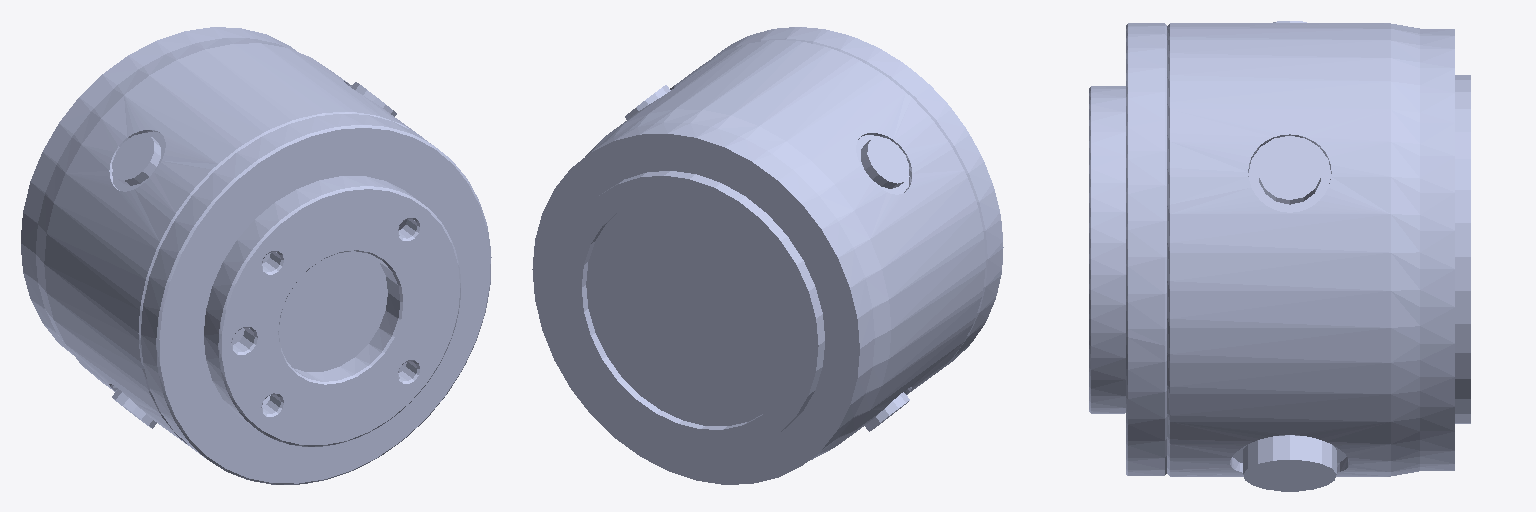
URDF robot description (rs_m90e7_description):
<?xml version="1.0" encoding="utf-8"?>
<robot
  name="rs_m90e7_description">
  <link
    name="base_link">
    <inertial>
      <origin
        xyz="-0.10083 0.44571 0.10064"
        rpy="0 0 0" />
      <mass
        value="14.348" />
      <inertia
        ixx="1.1958"
        ixy="0.065249"
        ixz="-0.0022916"
        iyy="0.54334"
        iyz="-0.34884"
        izz="0.83638" />
    </inertial>
    <visual>
      <origin
        xyz="0 0 0"
        rpy="0 0 0" />
      <geometry>
        <mesh
          filename="package://rs_m90e7_description/meshes/base_link.STL" />
      </geometry>
      <material
        name="">
        <color
          rgba="0.79216 0.81961 0.93333 1" />
      </material>
    </visual>
    <collision>
      <origin
        xyz="0 0 0"
        rpy="0 0 0" />
      <geometry>
        <mesh
          filename="package://rs_m90e7_description/meshes/base_link.STL" />
      </geometry>
    </collision>
  </link>
  <link
    name="link1">
    <inertial>
      <origin
        xyz="-0.100828740851782 0.344764306357991 0.100637842700082"
        rpy="0 0 0" />
      <mass
        value="14.3478185896065" />
      <inertia
        ixx="1.19580116428598"
        ixy="0.065248716032548"
        ixz="-0.00229155804674572"
        iyy="0.543340717434702"
        iyz="-0.348841942351221"
        izz="0.836377518308467" />
    </inertial>
    <visual>
      <origin
        xyz="0 0 0"
        rpy="0 0 0" />
      <geometry>
        <mesh
          filename="package://rs_m90e7_description/meshes/link1.STL" />
      </geometry>
      <material
        name="">
        <color
          rgba="0.792156862745098 0.819607843137255 0.933333333333333 1" />
      </material>
    </visual>
    <collision>
      <origin
        xyz="0 0 0"
        rpy="0 0 0" />
      <geometry>
        <mesh
          filename="package://rs_m90e7_description/meshes/link1.STL" />
      </geometry>
    </collision>
  </link>
  <joint
    name="j1"
    type="revolute">
    <origin
      xyz="0 0 0.10095"
      rpy="1.5708 0 0" />
    <parent
      link="base_link" />
    <child
      link="link1" />
    <axis
      xyz="0 1 0" />
    <limit
      lower="-6.2831853072"
      upper="6.2831853072"
      effort="0"
      velocity="4.7123889804" />
  </joint>
  <link
    name="link2">
    <inertial>
      <origin
        xyz="-0.241614292774701 0.0318787408517825 -0.100637842700082"
        rpy="0 0 0" />
      <mass
        value="14.3478185896065" />
      <inertia
        ixx="0.543340717434702"
        ixy="0.0652487160325479"
        ixz="-0.348841942351221"
        iyy="1.19580116428598"
        iyz="-0.00229155804674576"
        izz="0.836377518308467" />
    </inertial>
    <visual>
      <origin
        xyz="0 0 0"
        rpy="0 0 0" />
      <geometry>
        <mesh
          filename="package://rs_m90e7_description/meshes/link2.STL" />
      </geometry>
      <material
        name="">
        <color
          rgba="0.792156862745098 0.819607843137255 0.933333333333333 1" />
      </material>
    </visual>
    <collision>
      <origin
        xyz="0 0 0"
        rpy="0 0 0" />
      <geometry>
        <mesh
          filename="package://rs_m90e7_description/meshes/link2.STL" />
      </geometry>
    </collision>
  </link>
  <joint
    name="j2"
    type="revolute">
    <origin
      xyz="-0.06895 0.10315 0"
      rpy="-3.1416 0 -1.5708" />
    <parent
      link="link1" />
    <child
      link="link2" />
    <axis
      xyz="0 -1 0" />
    <limit
      lower="-6.2831853072"
      upper="6.2831853072"
      effort="0"
      velocity="4.7123889804" />
  </joint>
  <link
    name="link3">
    <inertial>
      <origin
        xyz="-0.100637842700082 -0.0318787408517825 0.188385707225299"
        rpy="0 0 0" />
      <mass
        value="14.3478185896065" />
      <inertia
        ixx="0.836377518308467"
        ixy="0.00229155804674574"
        ixz="-0.348841942351221"
        iyy="1.19580116428598"
        iyz="-0.0652487160325479"
        izz="0.543340717434702" />
    </inertial>
    <visual>
      <origin
        xyz="0 0 0"
        rpy="0 0 0" />
      <geometry>
        <mesh
          filename="package://rs_m90e7_description/meshes/link3.STL" />
      </geometry>
      <material
        name="">
        <color
          rgba="0.792156862745098 0.819607843137255 0.933333333333333 1" />
      </material>
    </visual>
    <collision>
      <origin
        xyz="0 0 0"
        rpy="0 0 0" />
      <geometry>
        <mesh
          filename="package://rs_m90e7_description/meshes/link3.STL" />
      </geometry>
    </collision>
  </link>
  <joint
    name="j3"
    type="revolute">
    <origin
      xyz="-0.43 0 0"
      rpy="3.1416 -1.5708 0" />
    <parent
      link="link2" />
    <child
      link="link3" />
    <axis
      xyz="0 1 0" />
    <limit
      lower="-4.0491638646"
      upper="1.2566370614"
      effort="0"
      velocity="7.1558499332" />
  </joint>
  <link
    name="link4">
    <inertial>
      <origin
        xyz="-0.188385707225299 0.017928791610254 -0.309362157299917"
        rpy="0 0 0" />
      <mass
        value="14.3478185896065" />
      <inertia
        ixx="0.543340717434702"
        ixy="-0.065248716032548"
        ixz="-0.348841942351221"
        iyy="1.19580116428598"
        iyz="0.00229155804674572"
        izz="0.836377518308467" />
    </inertial>
    <visual>
      <origin
        xyz="0 0 0"
        rpy="0 0 0" />
      <geometry>
        <mesh
          filename="package://rs_m90e7_description/meshes/link4.STL" />
      </geometry>
      <material
        name="">
        <color
          rgba="0.792156862745098 0.819607843137255 0.933333333333333 1" />
      </material>
    </visual>
    <collision>
      <origin
        xyz="0 0 0"
        rpy="0 0 0" />
      <geometry>
        <mesh
          filename="package://rs_m90e7_description/meshes/link4.STL" />
      </geometry>
    </collision>
  </link>
  <joint
    name="j4"
    type="revolute">
    <origin
      xyz="-0.41 -0.01395 0"
      rpy="3.1416 1.5708 0" />
    <parent
      link="link3" />
    <child
      link="link4" />
    <axis
      xyz="0 -1 0" />
    <limit
      lower="-6.2831853072"
      upper="6.2831853072"
      effort="16.9"
      velocity="8.290313947" />
  </joint>
  <link
    name="link5">
    <inertial>
      <origin
        xyz="-0.30936 -0.25629 -0.045471"
        rpy="0 0 0" />
      <mass
        value="14.348" />
      <inertia
        ixx="0.83638"
        ixy="-0.34884"
        ixz="0.0022916"
        iyy="0.54334"
        iyz="-0.065249"
        izz="1.1958" />
    </inertial>
    <visual>
      <origin
        xyz="0 0 0"
        rpy="0 0 0" />
      <geometry>
        <mesh
          filename="package://rs_m90e7_description/meshes/link5.STL" />
      </geometry>
      <material
        name="">
        <color
          rgba="0.79216 0.81961 0.93333 1" />
      </material>
    </visual>
    <collision>
      <origin
        xyz="0 0 0"
        rpy="0 0 0" />
      <geometry>
        <mesh
          filename="package://rs_m90e7_description/meshes/link5.STL" />
      </geometry>
    </collision>
  </link>
  <joint
    name="j5"
    type="revolute">
    <origin
      xyz="0.0679 0.0634 0"
      rpy="-1.5708 -1.5708 0" />
    <parent
      link="link4" />
    <child
      link="link5" />
    <axis
      xyz="0 1 0" />
    <limit
      lower="-6.2831853072"
      upper="6.2831853072"
      effort="18.9"
      velocity="8.290313947" />   
  </joint>
  <link
    name="tool">
    <inertial>
      <origin
        xyz="0.045471 -0.39021 0.31969"
        rpy="0 0 0" />
      <mass
        value="14.348" />
      <inertia
        ixx="1.1958"
        ixy="-0.0022916"
        ixz="-0.065249"
        iyy="0.83638"
        iyz="0.34884"
        izz="0.54334" />
    </inertial>
    <visual>
      <origin
        xyz="0 0 0"
        rpy="0 0 0" />
      <geometry>
        <mesh
          filename="package://rs_m90e7_description/meshes/tool.STL" />
      </geometry>
      <material
        name="">
        <color
          rgba="0.79216 0.81961 0.93333 1" />
      </material>
    </visual>
    <collision>
      <origin
        xyz="0 0 0"
        rpy="0 0 0" />
      <geometry>
        <mesh
          filename="package://rs_m90e7_description/meshes/tool.STL" />
      </geometry>
    </collision>
  </link>
  <joint
    name="j6"
    type="revolute">
    <origin
      xyz="0.08085 0.0634 0"
      rpy="-1.5708 1.5708 3.1416" />
    <parent
      link="link5" />
    <child
      link="tool" />
    <axis
      xyz="0 -1 0" />
    <limit
      lower="-6.2831853072"
      upper="6.2831853072"
      effort="10.2"
      velocity="13.1772358526" />
  </joint>
</robot>

--- Render facts (derived) ---
The picture shows the robot from 3 angles, left to right: view 1: azimuth 30°, elevation 25°; view 2: azimuth 150°, elevation 25°; view 3: azimuth 270°, elevation 25°; orthographic projection.
Robot: rs_m90e7_description — 7 links, 6 joints (6 revolute); root link base_link; default pose: all joints at 0.
Visible links, largest first — view 1: tool; view 2: tool; view 3: tool.
Boxes of the visible links, bbox=[...] form: tool: bbox=[21, 27, 491, 484]; tool: bbox=[532, 27, 1003, 484]; tool: bbox=[1089, 21, 1470, 491].
Size in the robot's own frame: 0.087 by 0.0734 by 0.087 metres.
1 mesh visuals loaded from 7 distinct referenced files (1 binary STL); not drawn: 6 (reference not matched to a file when rendering).